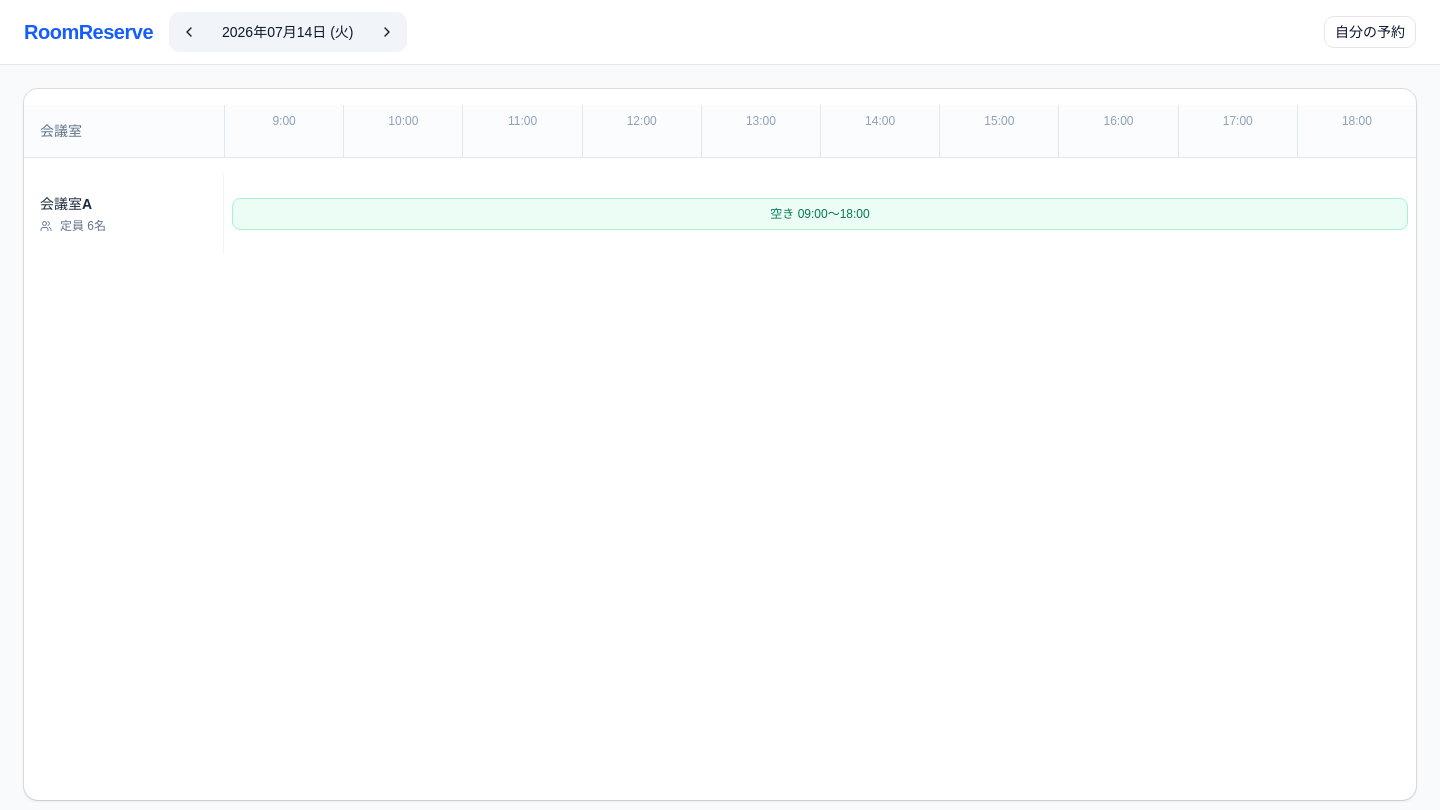
Test: 自分の予約(RFE-C) › 予約が成立すると、この端末の記録に追加され自分の予約一覧に表示される
This screenshot has width=1440, height=810.
Click the button "空き 09:00〜18:00" at (820, 214), box [232, 198, 1408, 230]
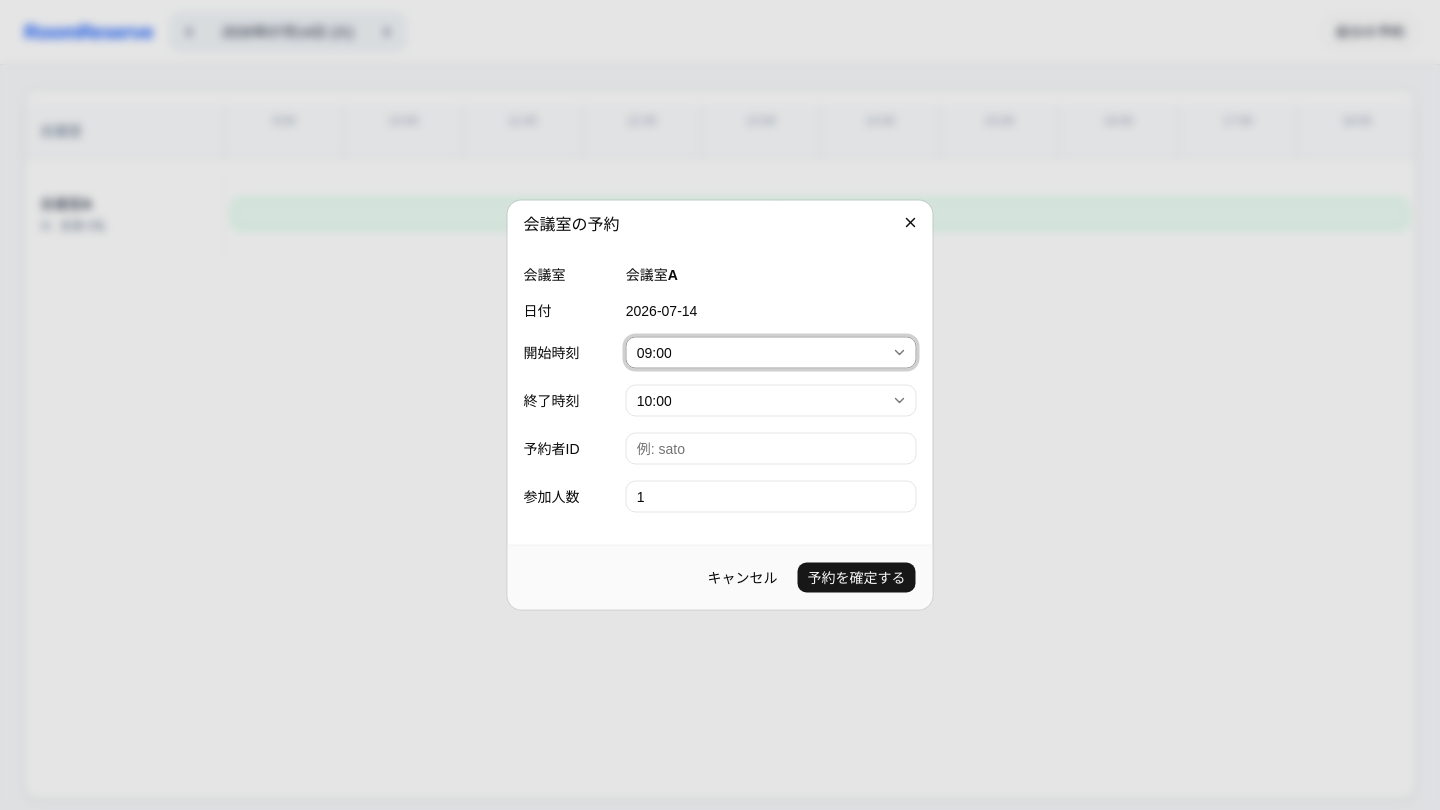
Type "sato" into the field labelled "予約者ID" at (771, 448), box [626, 432, 917, 464]
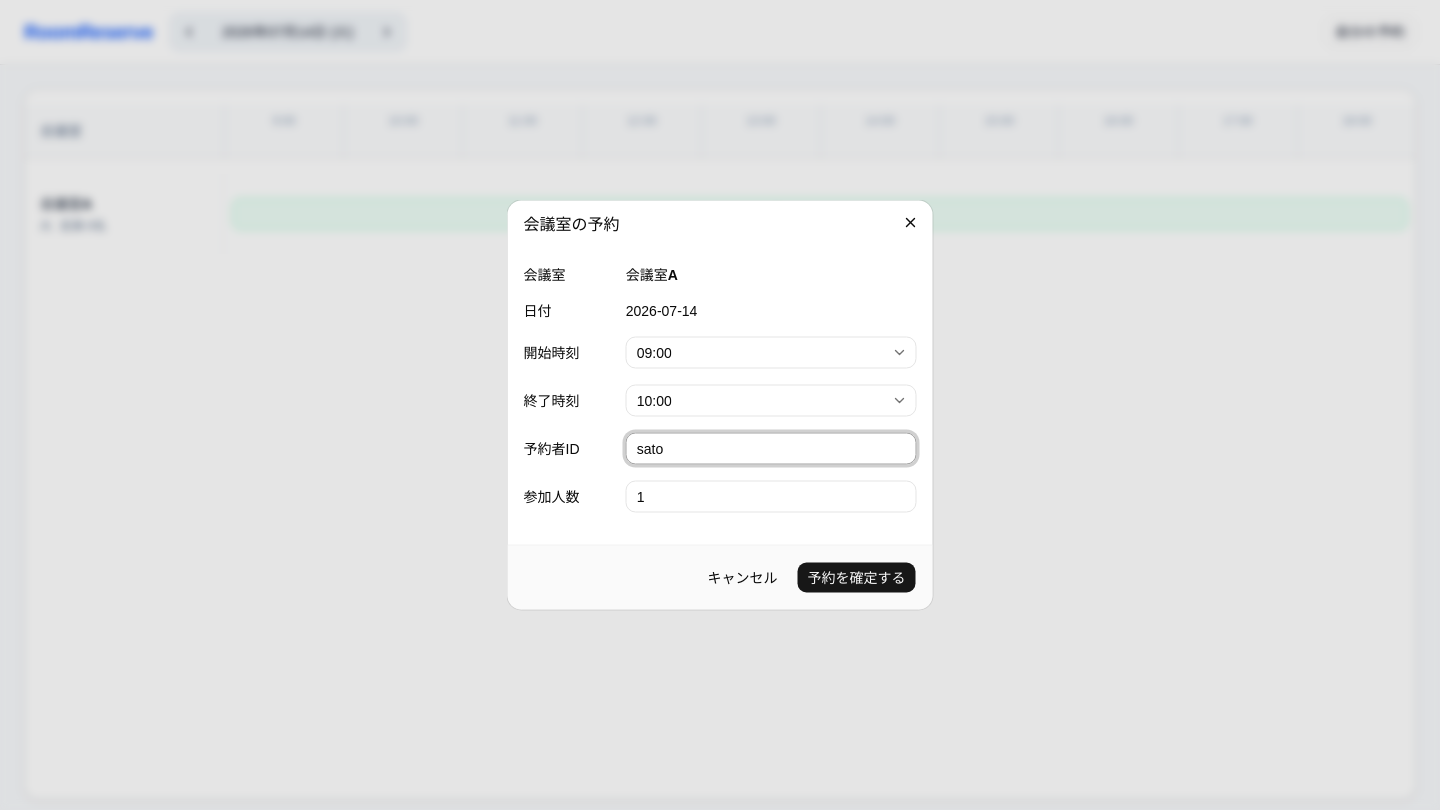
Click the button "予約を確定する" at (856, 578), box [796, 562, 916, 594]
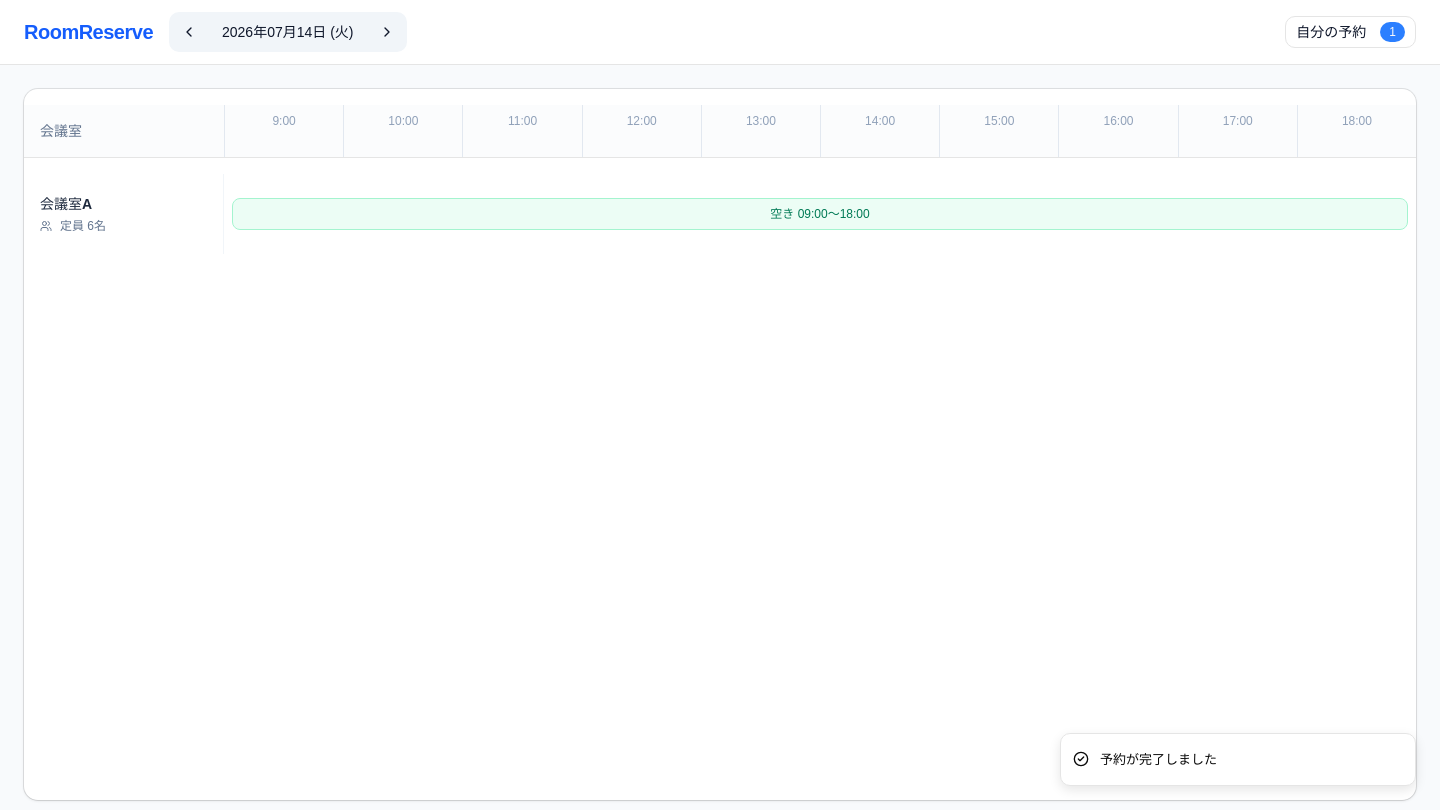
Result: the dialog is gone
Click the button "自分の予約 1" at (1351, 32), box [1285, 16, 1416, 48]
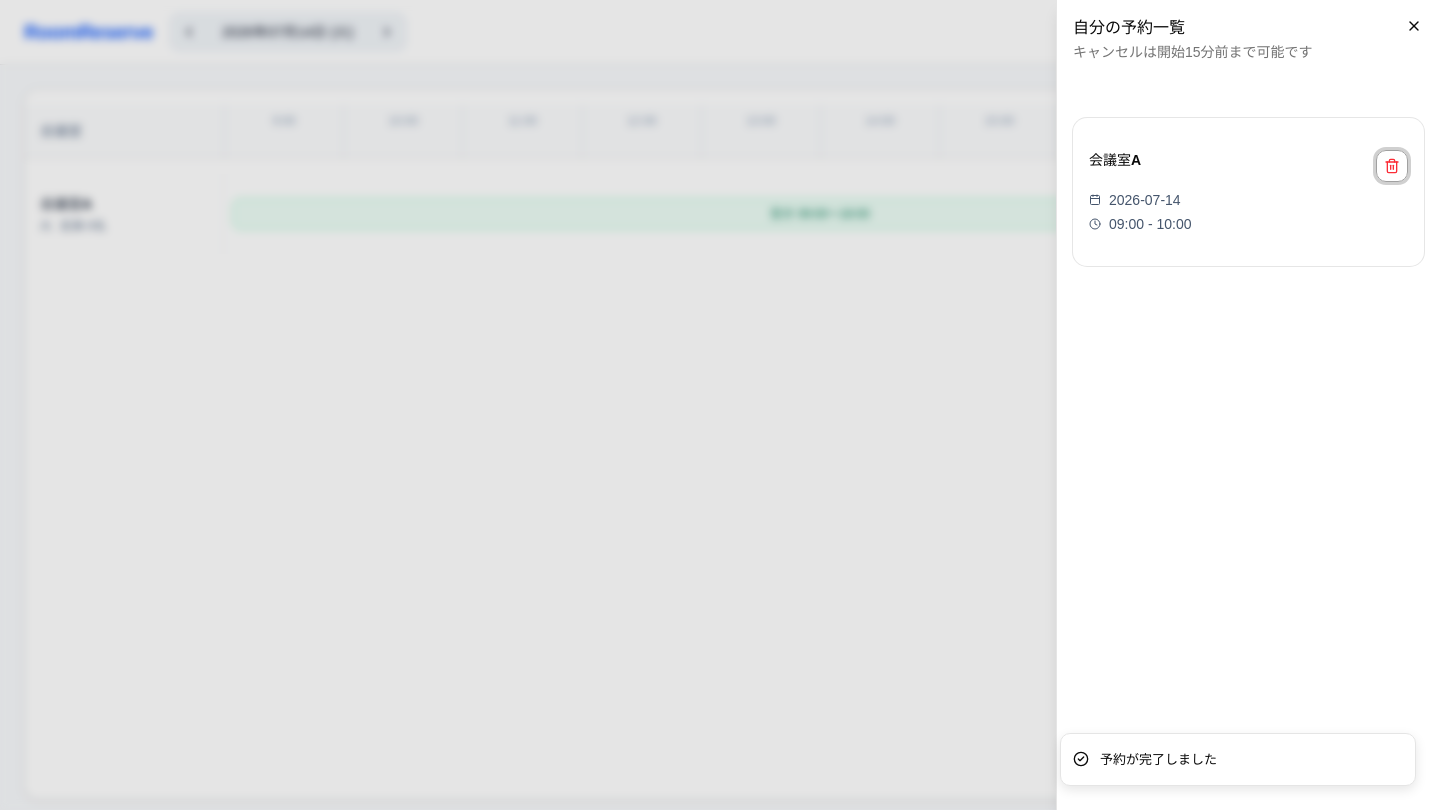
Result: the text "09:00 - 10:00" is shown at [1089, 216, 1192, 232]
